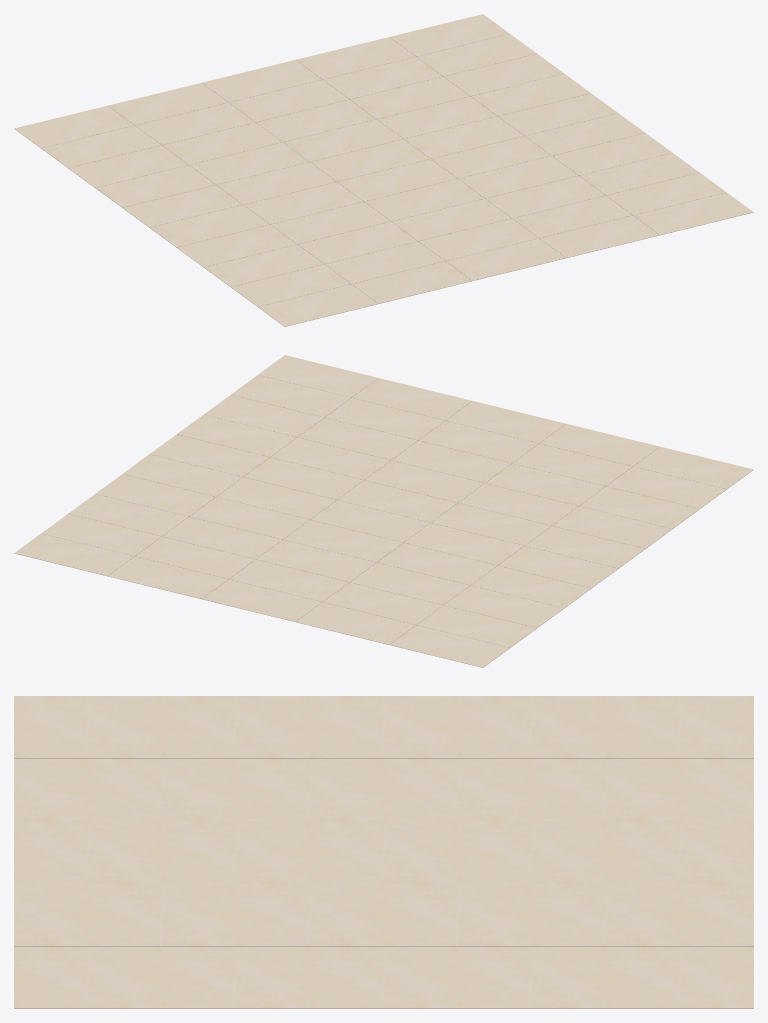
The model's file is italia-crema-80x160.glb.
3 renders of one model, top to bottom at view 1: azimuth 30°, elevation 25°; view 2: azimuth 150°, elevation 25°; view 3: azimuth 270°, elevation 25°, orthographic. The views are drawn at different scales.
Visible parts, largest first — view 1: Italia Crema; view 2: Italia Crema; view 3: Italia Crema.
Part boxes in pixels (x1,y1,x2,y2): Italia Crema: (14,14,753,326); Italia Crema: (14,355,753,667); Italia Crema: (14,696,753,1008).
Size of the model in its own units: 8 by 0.003 by 8.
Materials: 2 (1 with a texture image).
